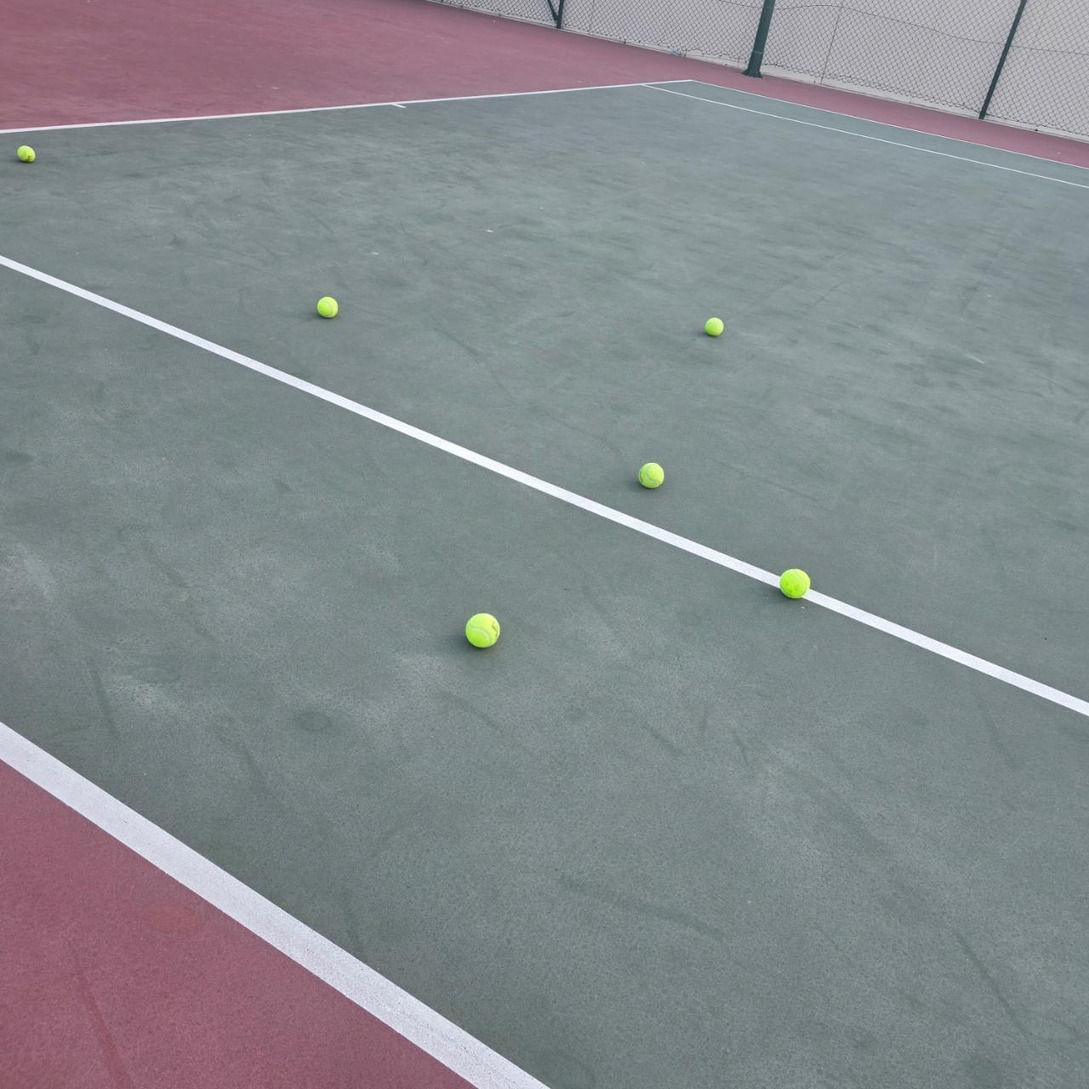tennis-ball: (464, 610, 500, 648), (778, 566, 811, 599), (636, 459, 664, 488), (315, 294, 338, 318), (703, 314, 724, 336), (15, 143, 36, 162)
